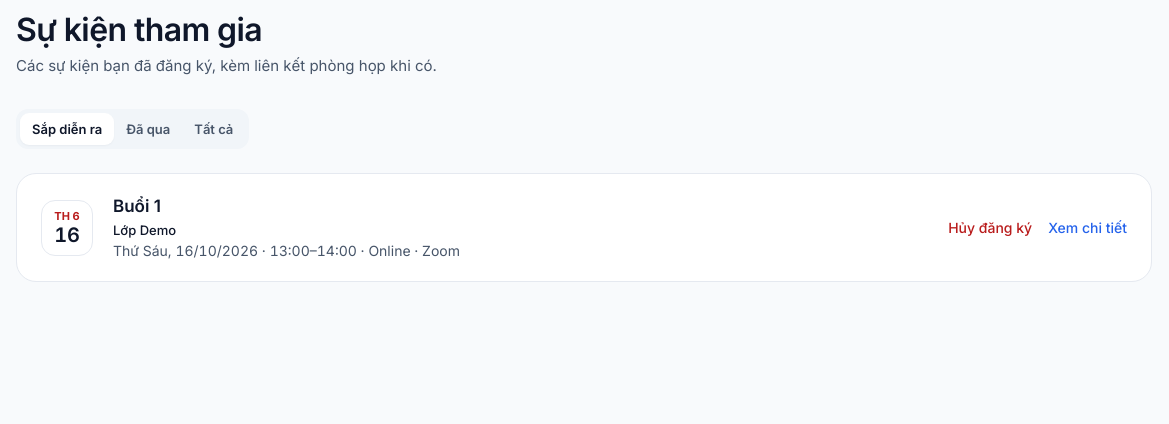
Test case: MyEventsPage › switches scope tabs and reloads; past events have no cancel action
Check: the link "Buổi 1" is shown, box x1=113 y1=196 x2=161 y2=216
Click the button "Đã qua" at (148, 129), box x1=114 y1=113 x2=182 y2=145
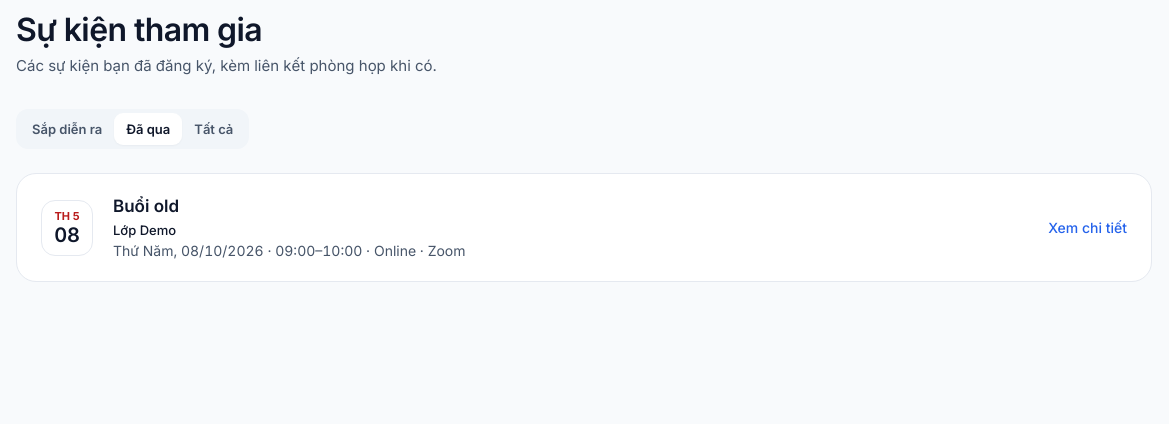
Check: the link "Buổi 1" is gone
Check: the button "Hủy đăng ký" is gone
Click the button "Tất cả" at (214, 129), box x1=182 y1=113 x2=245 y2=145
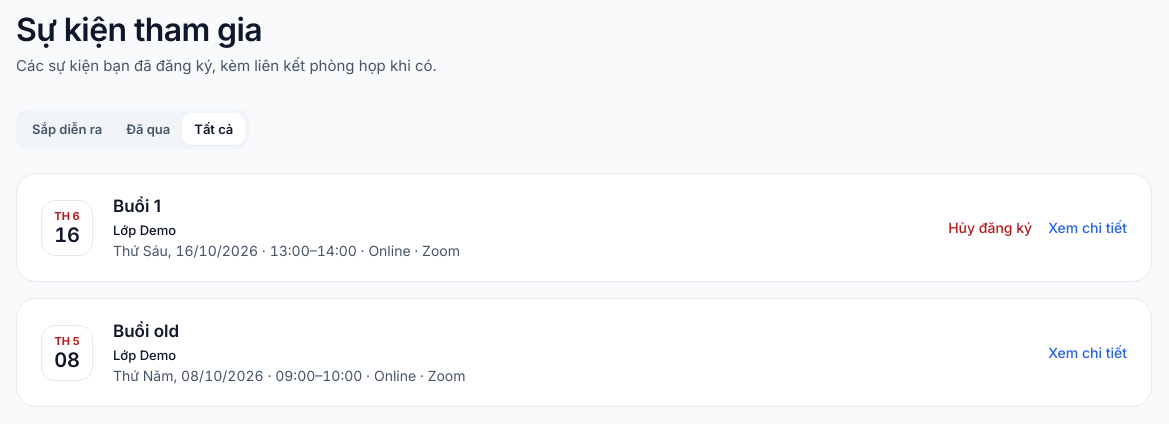
Check: the link "Buổi old" is shown, box x1=113 y1=321 x2=179 y2=341
Check: the link "Buổi 1" is shown, box x1=113 y1=196 x2=161 y2=216
